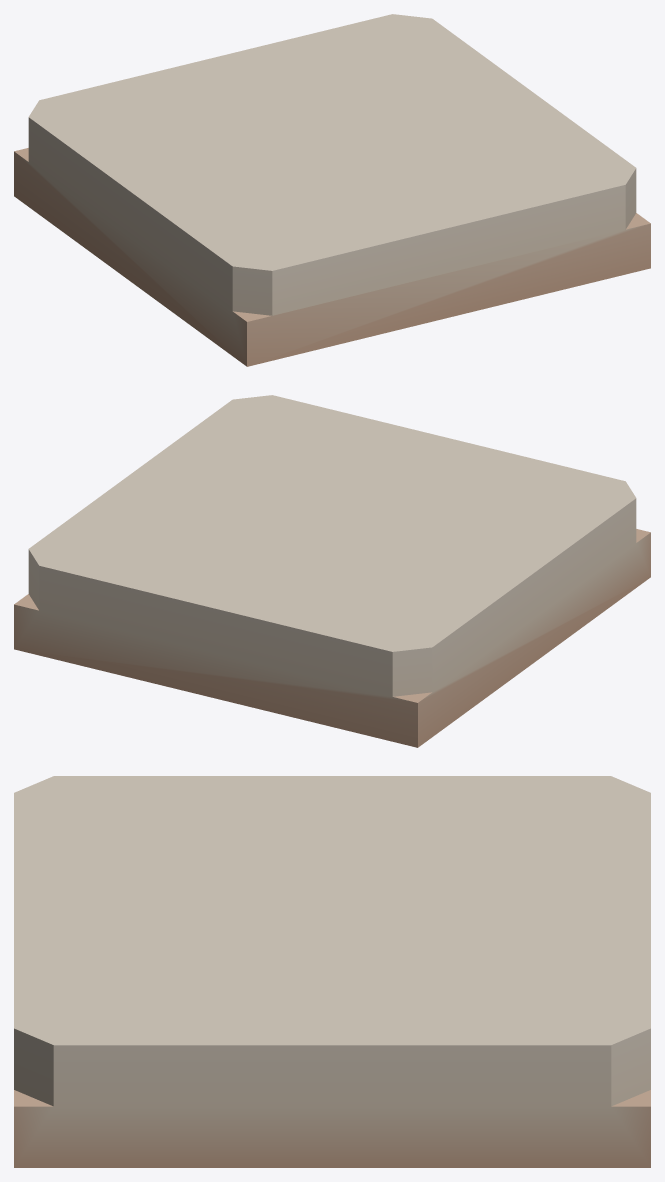
File: roof-flat-detail-a.glb
3 renders of one model, top to bottom at view 1: azimuth 30°, elevation 25°; view 2: azimuth 150°, elevation 25°; view 3: azimuth 270°, elevation 25°, orthographic. The views are drawn at different scales.
Visible parts, largest first — view 1: roof-flat-detail-a; view 2: roof-flat-detail-a; view 3: roof-flat-detail-a.
Boxes of the visible parts, bbox=[...] form: roof-flat-detail-a: bbox=[14, 14, 650, 366]; roof-flat-detail-a: bbox=[14, 395, 650, 747]; roof-flat-detail-a: bbox=[14, 776, 650, 1167].
Size of the model in its own units: 1 by 0.2125 by 1.
